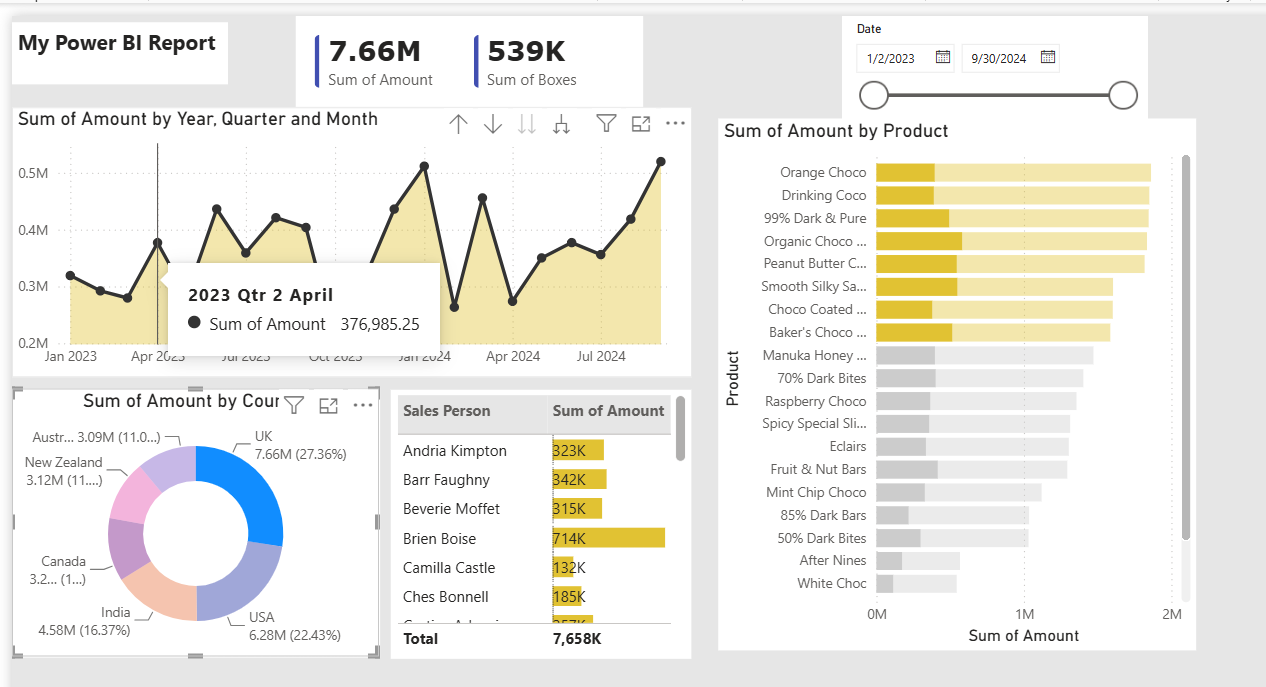

This screenshot's page, from the dashboard's own definition file:
{"tool":"powerbi","page":{"name":"Page 1","canvas":[1280,720],"ordinal":0},"visuals":[{"type":"lineChart","fields":{"Category":["data.Date.Variation.Date Hierarchy.Year","data.Date.Variation.Date Hierarchy.Quarter","data.Date.Variation.Date Hierarchy.Month","data.Date.Variation.Date Hierarchy.Day"],"Y":["Sum(data.Amount)"]},"box":[0,81,604,240],"z":1000},{"type":"donutChart","fields":{"Y":["Sum(data.Amount)"],"Category":["data.Country"]},"box":[0,331,327,239],"z":2000},{"type":"tableEx","fields":{"Values":["data.Sales Person","Sum(data.Amount)"]},"box":[337,332,267,239],"z":3000},{"type":"clusteredBarChart","fields":{"Category":["data.Product"],"Y":["Sum(data.Amount)"]},"box":[628,91,425,473],"z":4000},{"type":"cardVisual","fields":{"Data":["Sum(data.Amount)","Sum(data.Boxes)"]},"box":[252,0,309,81],"z":5000},{"type":"slicer","fields":{"Values":["data.Date"]},"box":[738,0,271,91],"z":6000},{"type":"textbox","box":[0,6,192,55],"z":6001}]}

Visuals, with their boxes on the page's 1280x720 design canvas (x1, y1, x2, y2). These are canvas units, not pixel positions in the 1266x687 screenshot, which may show the page scaled, cropped or inside an application window:
lineChart - data.Date.Variation.Date Hierarchy.Year x data.Date.Variation.Date Hierarchy.Quarter: bbox=[0, 81, 604, 321]
donutChart - Sum(data.Amount) x data.Country: bbox=[0, 331, 327, 570]
tableEx - data.Sales Person x Sum(data.Amount): bbox=[337, 332, 604, 571]
clusteredBarChart - data.Product x Sum(data.Amount): bbox=[628, 91, 1053, 564]
cardVisual - Sum(data.Amount) x Sum(data.Boxes): bbox=[252, 0, 561, 81]
slicer - data.Date: bbox=[738, 0, 1009, 91]
textbox: bbox=[0, 6, 192, 61]
